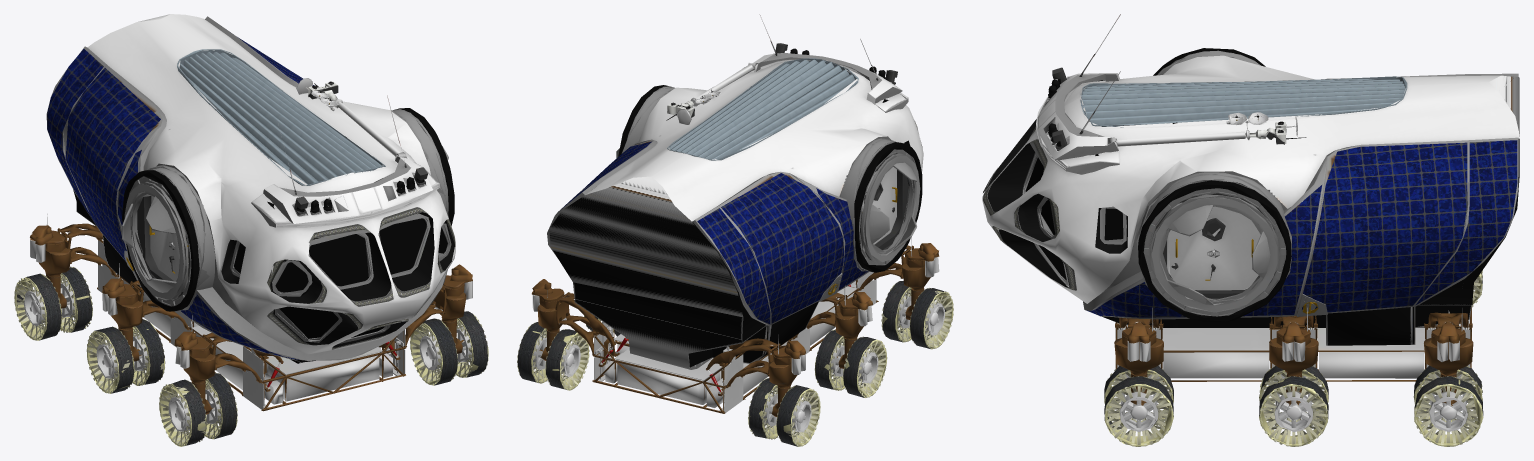
The model's file is sev_rover_mobile.glb.
3 renders of one model, left to right at view 1: azimuth 30°, elevation 25°; view 2: azimuth 150°, elevation 25°; view 3: azimuth 270°, elevation 25°, orthographic. The views are drawn at different scales.
Parts seen in each view (by area): view 1: MMSEV; view 2: MMSEV; view 3: MMSEV.
Boxes of the visible parts, x1,y1,x2,y2 form: MMSEV: (14, 14, 488, 446); MMSEV: (517, 14, 953, 446); MMSEV: (982, 14, 1519, 446).
Size of the model in its own units: 4.04 by 3.97 by 5.91.
1 material, 1 textured.
